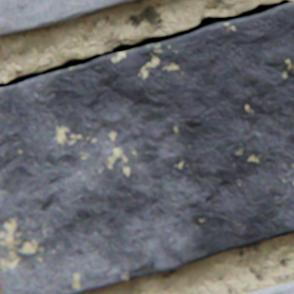brick: (0, 2, 293, 293), (0, 0, 137, 37), (241, 280, 293, 293)
crack: (0, 0, 292, 87)
